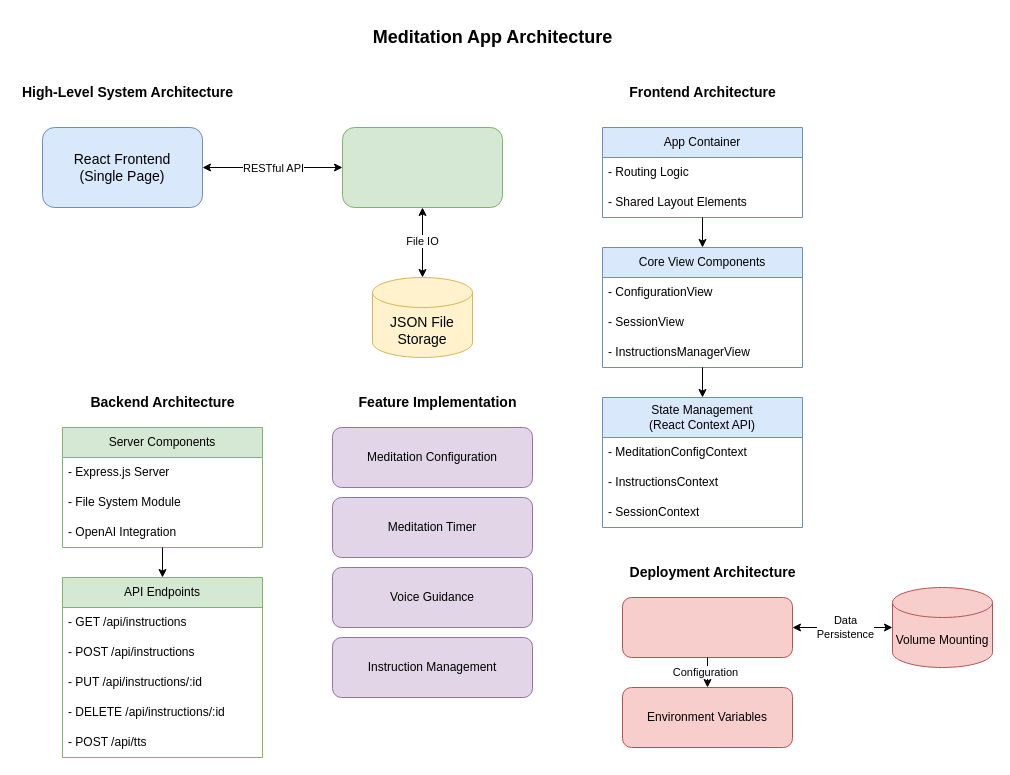
Some shapes in this 1010 by 775 pixel diagram are drawn without their labels. The centre of each missing label's shape, as x and y in pixels:
Docker Container: [707,627]
Node.js Backend (Express): [422,167]
